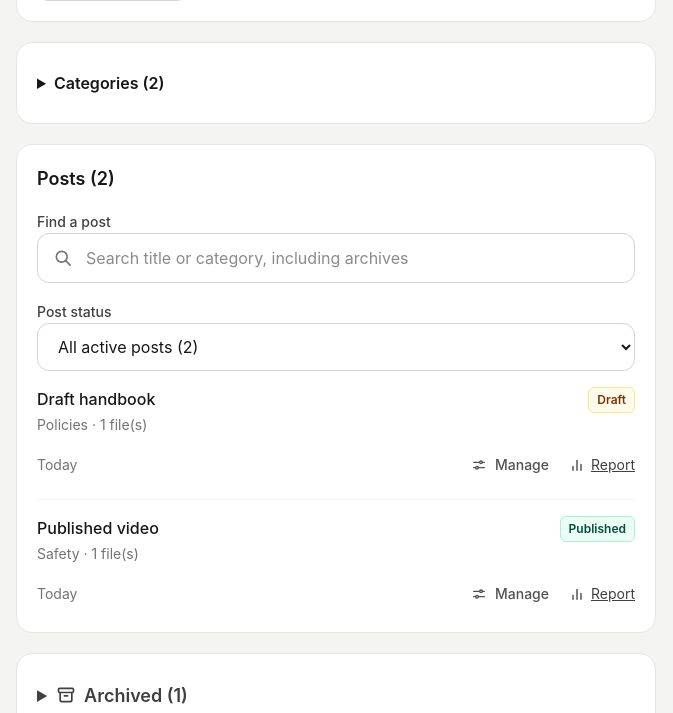
it: post status filters and search keep archived posts in their own section
This screenshot has width=673, height=713.
(page scrolled)
Expected: the text "Draft" is shown, [588, 387, 635, 413]
Expected: the text "Published" is shown, [560, 516, 635, 542]
Select "Published (1)" in the dropdown labelled "Post status" at (336, 347), box [37, 323, 635, 371]
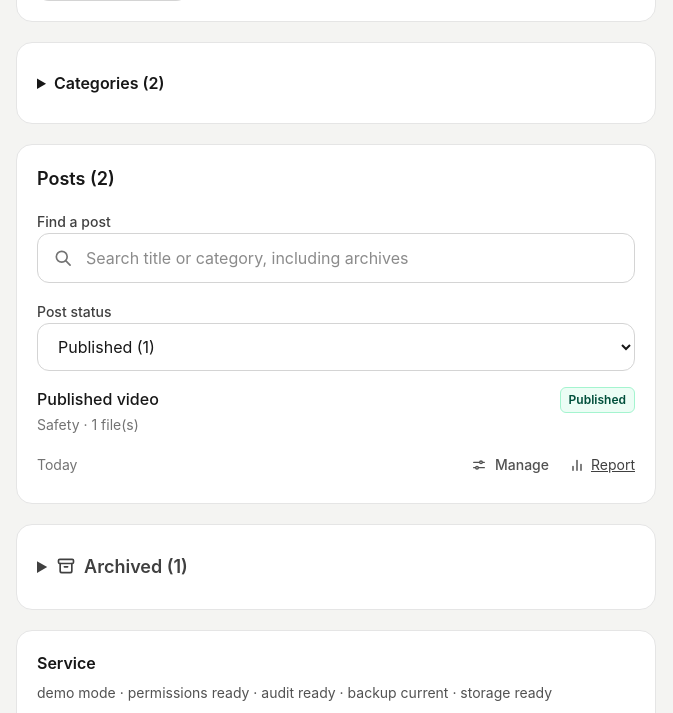
Expected: the text "Published video" is shown, [37, 387, 159, 411]
Expected: the text "Draft handbook" is gone
Type "Policies" into the search field labelled "Find a post".
click(336, 258); type("Policies")  # box [37, 233, 635, 283]
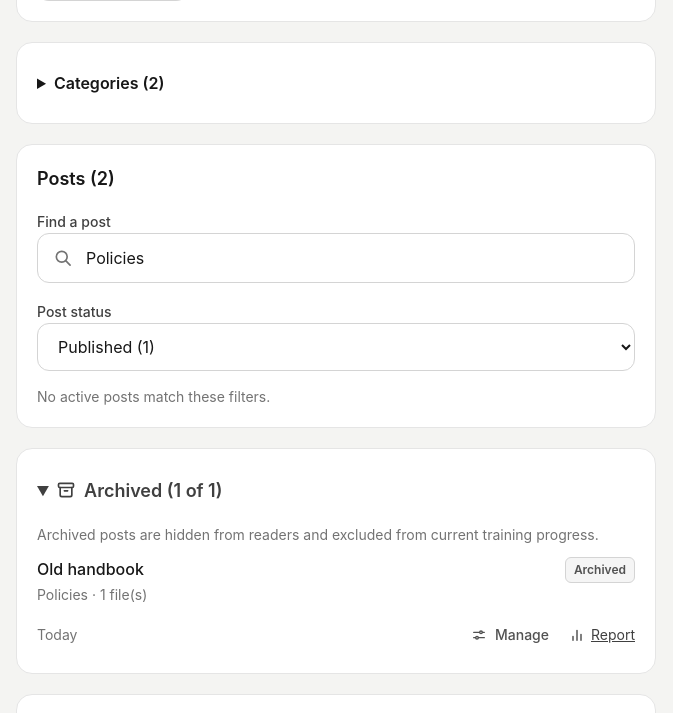
Expected: the text "No active posts match these filters." is shown, [37, 388, 270, 405]
Expected: the text "Old handbook" is shown, [37, 557, 147, 581]
Expected: the heading "Archived (1 of 1)" is shown, [56, 480, 222, 501]
